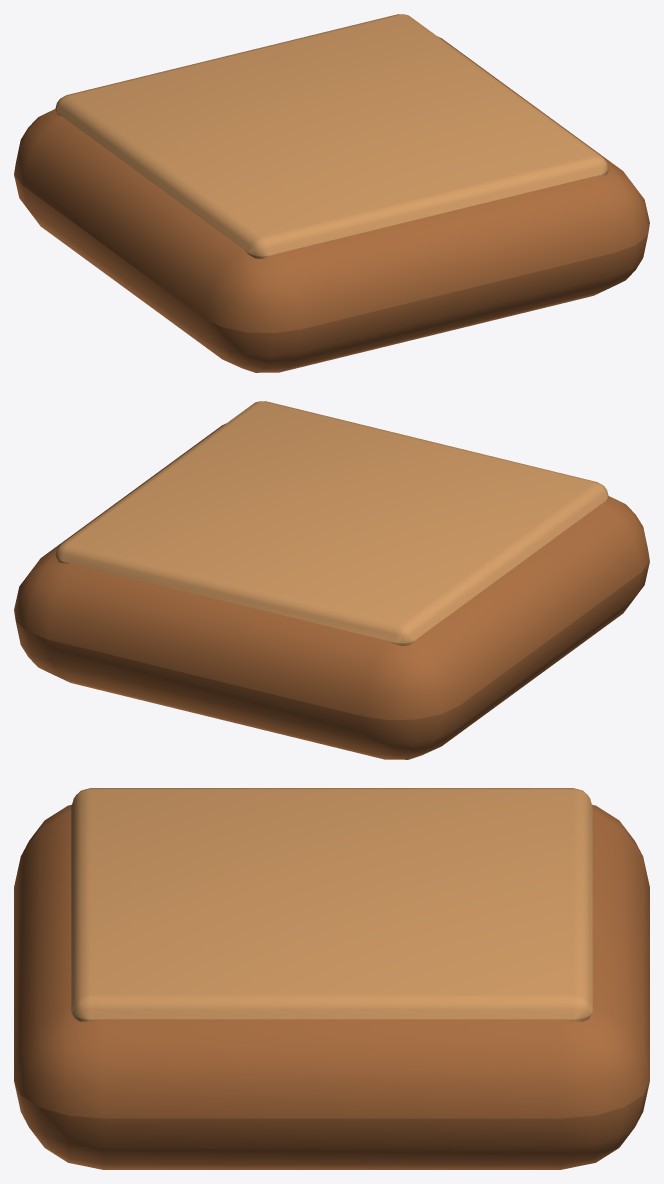
Rendered from LevelTile.fbx.
The picture shows the model from 3 angles, top to bottom: view 1: azimuth 30°, elevation 25°; view 2: azimuth 150°, elevation 25°; view 3: azimuth 270°, elevation 25°; orthographic projection. The views are drawn at different scales.
Visible parts, largest first — view 1: LevelTile; view 2: LevelTile; view 3: LevelTile.
Part boxes in pixels (x1,y1,x2,y2): LevelTile: [14, 14, 649, 372]; LevelTile: [14, 401, 649, 759]; LevelTile: [14, 788, 649, 1169].
Bounding box in the file's own units: 1 × 0.3 × 1.
Materials: 1 (1 with a texture image).
